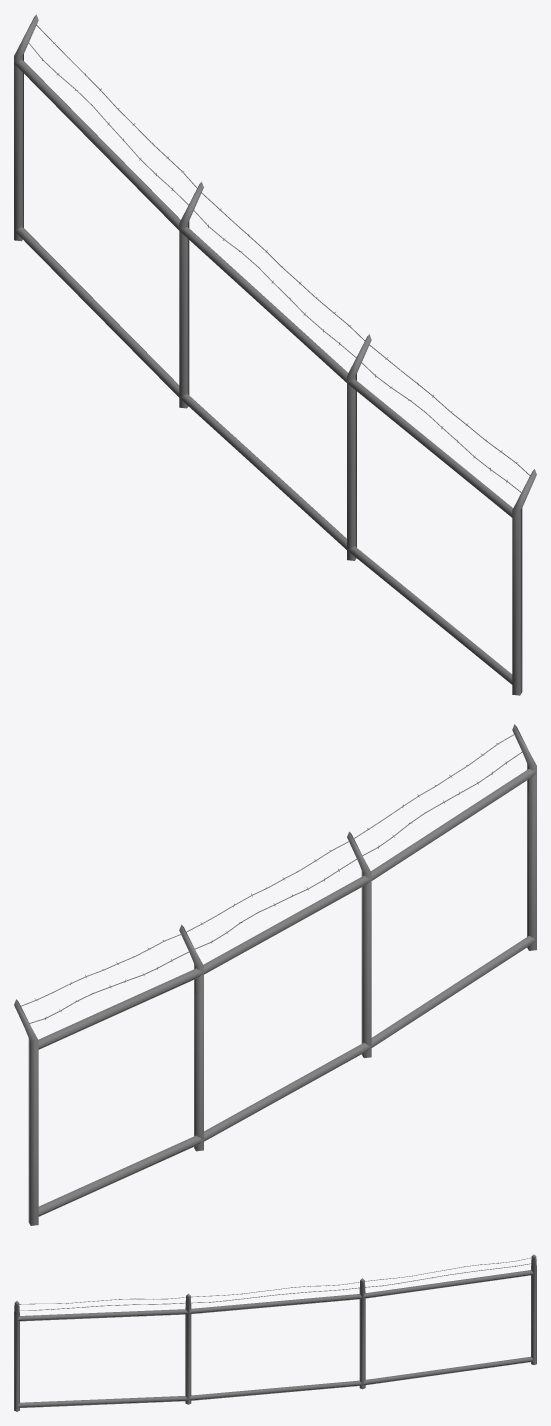
File: SW_ENV_WalledRiserStart_WireFence.fbx
3 views of the same model, one above another, from view 1: azimuth 30°, elevation 25°; view 2: azimuth 150°, elevation 25°; view 3: azimuth 270°, elevation 25° (orthographic). The views are drawn at different scales.
Visible parts, largest first — view 1: SW_ENV_WalledRiserStart_WireFence; view 2: SW_ENV_WalledRiserStart_WireFence; view 3: SW_ENV_WalledRiserStart_WireFence.
Boxes of the visible parts, box(x1,y1,x2,y2) form: SW_ENV_WalledRiserStart_WireFence: box(14, 14, 536, 695); SW_ENV_WalledRiserStart_WireFence: box(14, 724, 536, 1225); SW_ENV_WalledRiserStart_WireFence: box(14, 1254, 536, 1411).
Size of the model in its own units: 0.2715 by 3.37 by 9.91.
